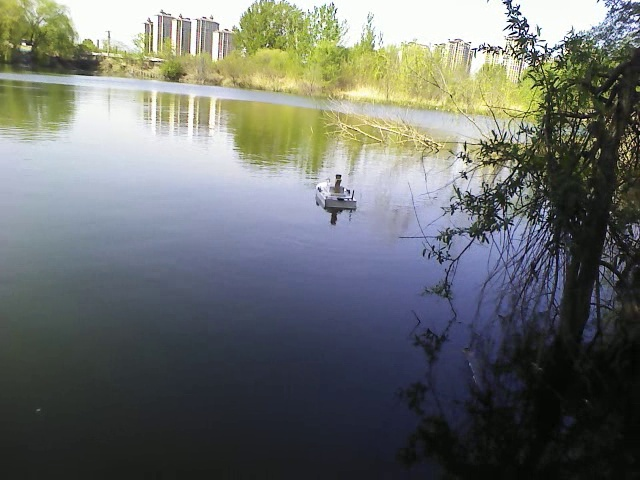boat: (314, 175, 360, 214)
